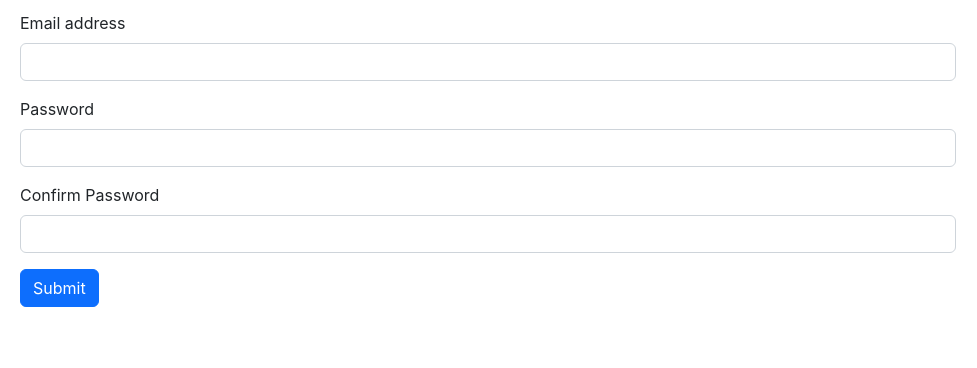
Test case: App › Error Handling › should show password error message if password is less than 5 characters
Type "daria@gmail.com" into the field labelled "Email address" at (488, 62), box [20,43,956,81]
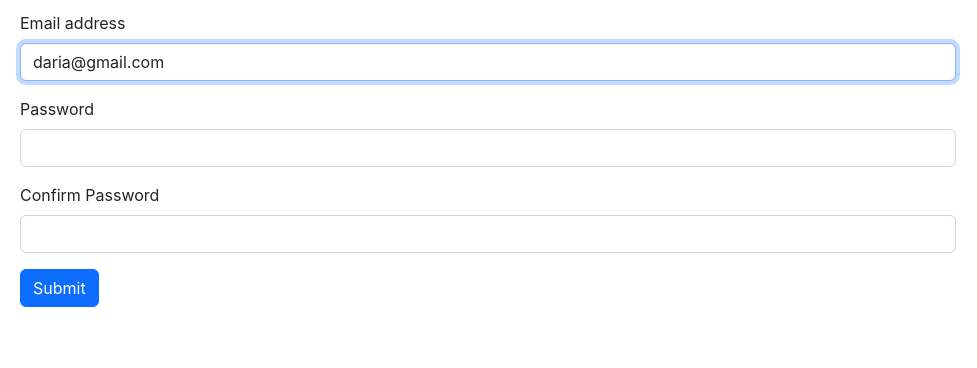
Expected: the text "the password you entered should contain 5 or more characters" is not shown
Type "123" into the password field labelled "Password" at (488, 148), box [20,129,956,167]
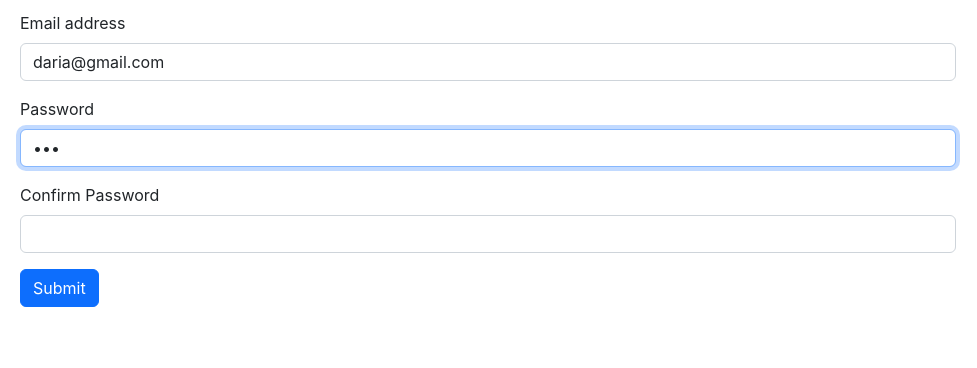
Click the button "Submit" at (59, 288), box [20,269,99,307]
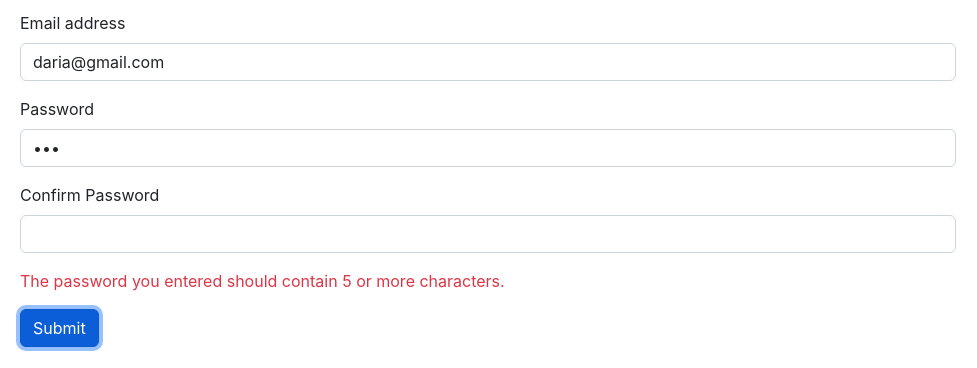
Result: the text "The password you entered should contain 5 or more characters" is shown at [20,271,505,291]
